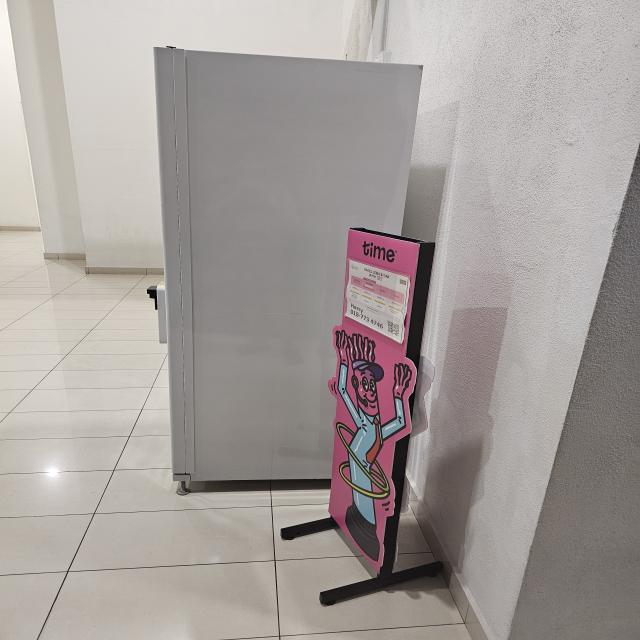obstacle: (135, 29, 365, 514), (292, 219, 467, 602)
